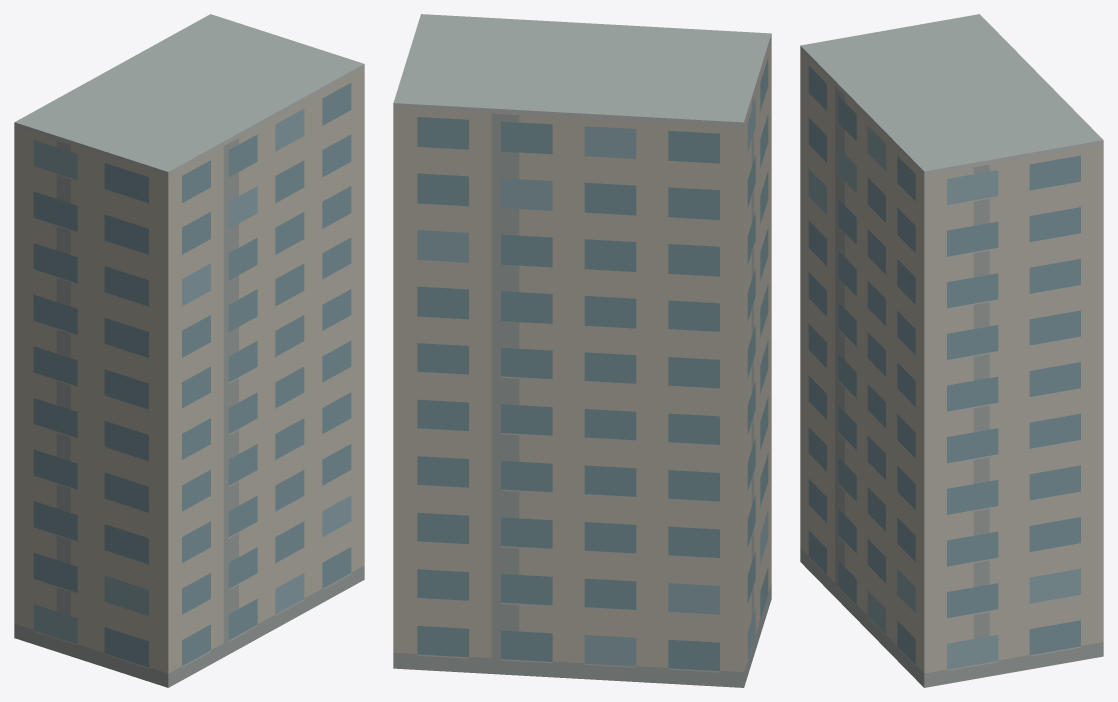
Rendered from residential-455bd5d9-40af-4c03-9776-31240cce2e72.glb.
The picture shows the model from 3 angles, left to right: view 1: azimuth 30°, elevation 25°; view 2: azimuth 150°, elevation 25°; view 3: azimuth 270°, elevation 25°; orthographic projection. The views are drawn at different scales.
Parts seen in each view (by area): view 1: residential-455bd5d9-40af-4c03-9776-31240cce2e72.tmp; view 2: residential-455bd5d9-40af-4c03-9776-31240cce2e72.tmp; view 3: residential-455bd5d9-40af-4c03-9776-31240cce2e72.tmp.
Boxes of the visible parts, bbox=[...] form: residential-455bd5d9-40af-4c03-9776-31240cce2e72.tmp: bbox=[14, 14, 364, 687]; residential-455bd5d9-40af-4c03-9776-31240cce2e72.tmp: bbox=[393, 14, 771, 687]; residential-455bd5d9-40af-4c03-9776-31240cce2e72.tmp: bbox=[800, 14, 1103, 687].
Bounding box in the file's own units: 17.67 × 27 × 14.37.
